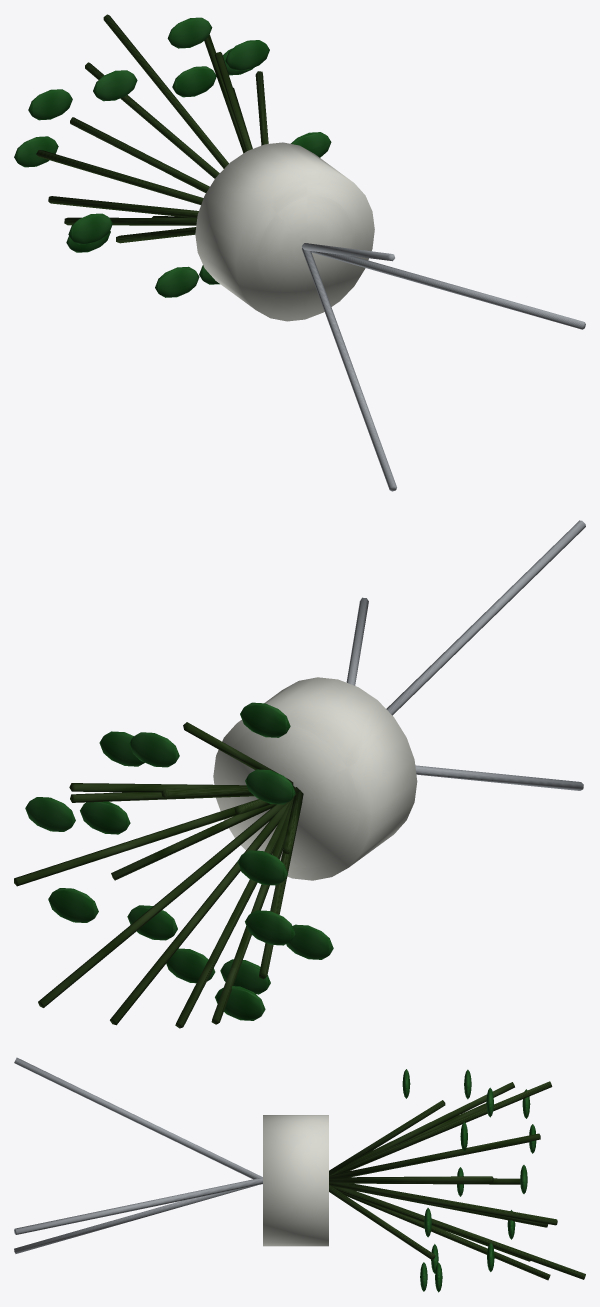
The model's file is PLANT_HANGING_001.glb.
3 renders of one model, top to bottom at view 1: azimuth 30°, elevation 25°; view 2: azimuth 150°, elevation 25°; view 3: azimuth 270°, elevation 25°, orthographic. The views are drawn at different scales.
Visible parts, largest first — view 1: hanging_pot_000, hanger_001, hanger_003, vine_012, vine_018, vine_016, vine_020, vine_014, leaf_011, leaf_021, leaf_025, leaf_013 (+9 smaller); view 2: hanging_pot_000, vine_028, hanger_002, vine_026, vine_004, vine_024, hanger_003, vine_022, vine_030, leaf_017, leaf_019, leaf_015 (+16 smaller); view 3: hanging_pot_000, hanger_002, hanger_001, vine_028, vine_004, vine_012, vine_008, hanger_003, vine_026, vine_006, vine_014, vine_010 (+3 smaller).
Boxes of the visible parts, box(x1,y1,x2,y2) form: hanging_pot_000: box(195, 142, 374, 321); hanger_001: box(307, 243, 585, 329); hanger_003: box(302, 248, 396, 491); vine_012: box(103, 14, 228, 168); vine_018: box(36, 150, 203, 204); vine_016: box(70, 117, 209, 192); vine_020: box(48, 196, 198, 218); vine_014: box(85, 62, 219, 178); leaf_011: box(167, 17, 212, 48); leaf_021: box(68, 213, 112, 244); leaf_025: box(155, 266, 199, 297); leaf_013: box(172, 66, 216, 97); hanging_pot_000: box(213, 677, 417, 880); vine_028: box(38, 798, 292, 1007); hanger_002: box(386, 520, 585, 715); vine_026: box(110, 802, 289, 1025); vine_004: box(14, 799, 258, 886); vine_024: box(175, 799, 292, 1028); hanger_003: box(415, 765, 583, 790); vine_022: box(211, 797, 293, 1024); vine_030: box(111, 804, 275, 880); leaf_017: box(237, 850, 287, 885); leaf_019: box(245, 910, 295, 945); leaf_015: box(245, 769, 295, 804); hanging_pot_000: box(263, 1115, 328, 1246); hanger_002: box(14, 1057, 262, 1179); hanger_001: box(14, 1178, 262, 1234); vine_028: box(331, 1186, 585, 1279); vine_004: box(329, 1183, 557, 1225); vine_012: box(335, 1081, 552, 1173); vine_008: box(329, 1133, 540, 1177); hanger_003: box(14, 1185, 256, 1253); vine_026: box(341, 1192, 550, 1280); vine_006: box(329, 1176, 493, 1183); vine_014: box(353, 1082, 514, 1162); vine_010: box(329, 1100, 445, 1176).
Bounding box in the file's own units: 0.4439 × 0.4 × 1.04.
Materials: 4 (4 with a texture image).
